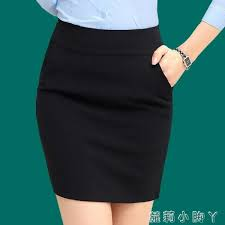F_tailored skirt: (33, 15, 175, 207)
